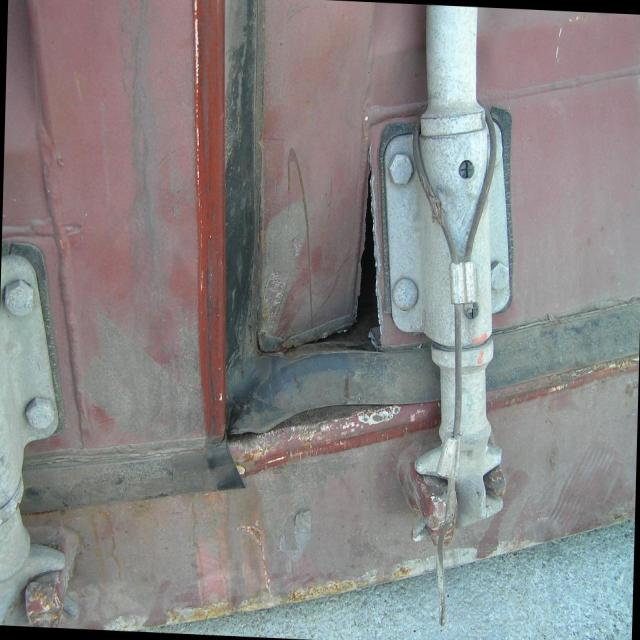hole: (346, 133, 395, 351), (257, 315, 358, 366)
